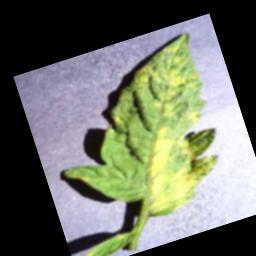Leaf_Mold: (99, 33, 236, 218), (109, 108, 122, 126)
